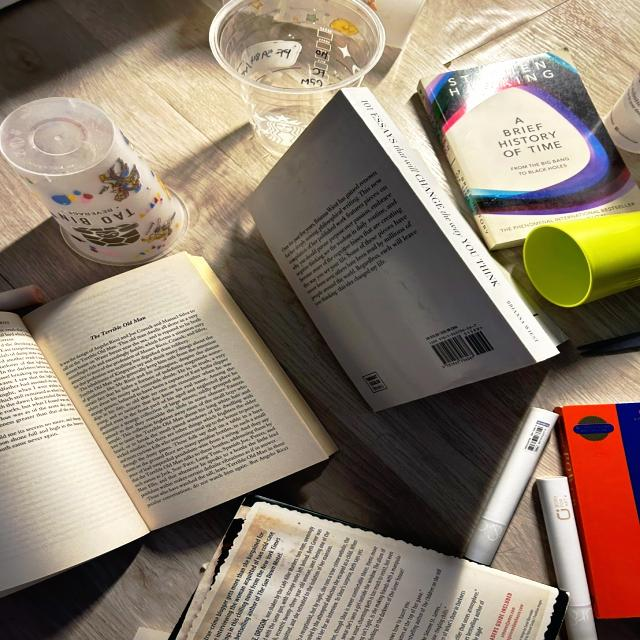Book: (1, 249, 331, 606), (250, 89, 564, 411), (176, 499, 568, 640), (418, 47, 639, 249), (555, 403, 639, 619)
HighLight Pen: (464, 408, 558, 565), (536, 476, 597, 640), (0, 285, 44, 311)
Plastic Cup: (0, 97, 188, 266), (209, 0, 385, 158), (230, 0, 429, 55), (604, 73, 639, 188)
Scissors: (578, 332, 639, 356)
WaterGlass: (523, 212, 639, 308)
